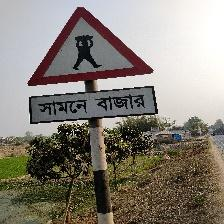Market-in-front: (27, 5, 157, 126)
